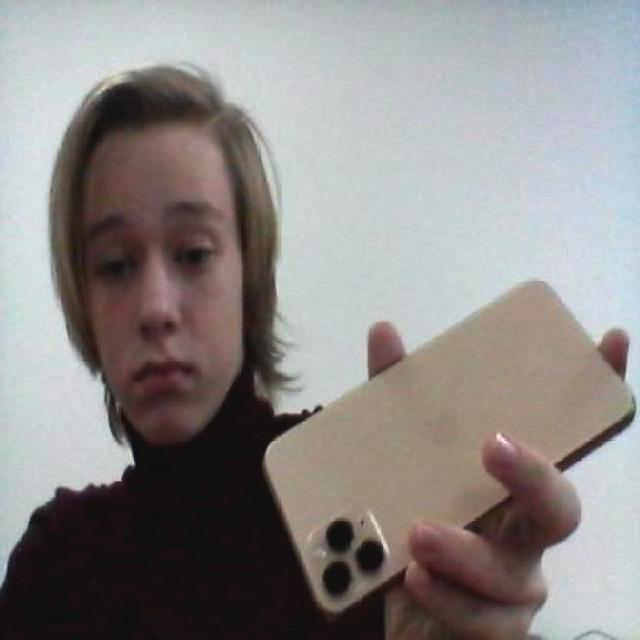phone: (232, 252, 640, 634)
